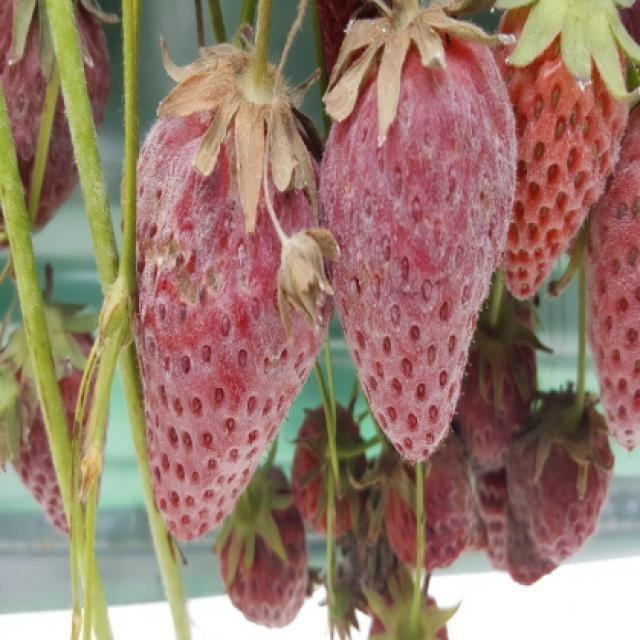Powdery Mildew Fruit: (122, 37, 335, 543), (318, 10, 515, 464), (492, 0, 634, 300), (583, 93, 638, 451)
